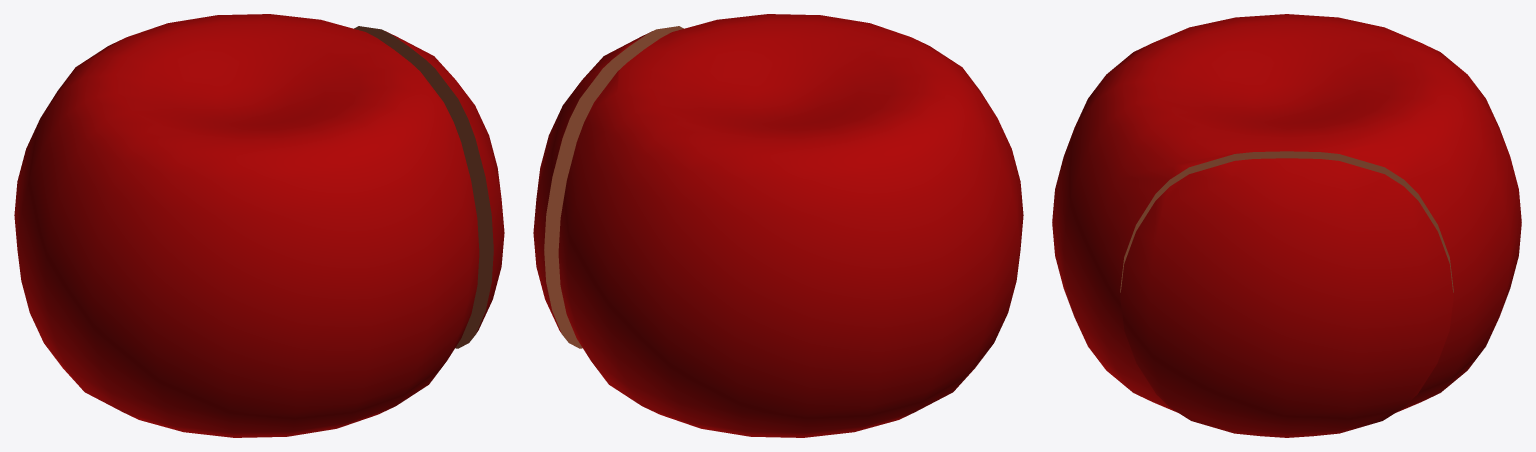
Rendered from 2of6Tomato.fbx.
3 views of the same model, side by side, from view 1: azimuth 30°, elevation 25°; view 2: azimuth 150°, elevation 25°; view 3: azimuth 270°, elevation 25° (orthographic).
Parts seen in each view (by area): view 1: pSphere1; view 2: pSphere1; view 3: pSphere1.
Part boxes in pixels (box(x1,y1,x2,y2)): pSphere1: box(14, 14, 504, 437); pSphere1: box(533, 14, 1023, 437); pSphere1: box(1052, 14, 1521, 437).
Size of the model in its own units: 2.07 by 1.34 by 2.
